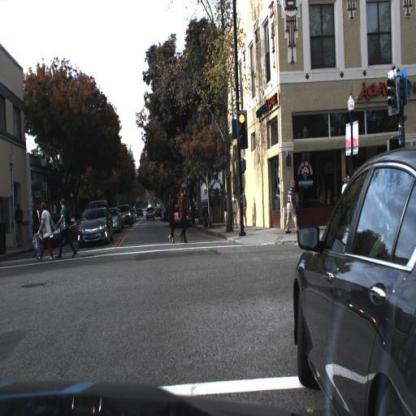car: (294, 148, 416, 416), (79, 205, 112, 254), (35, 210, 69, 253), (171, 204, 194, 231), (114, 212, 122, 232), (164, 206, 172, 224)
pedestrian: (57, 201, 73, 262), (169, 188, 181, 248), (40, 204, 51, 259), (287, 180, 298, 235), (14, 205, 26, 255), (31, 209, 41, 263), (33, 206, 43, 258), (180, 187, 188, 250), (168, 196, 177, 249), (35, 205, 43, 260), (238, 189, 248, 233), (222, 193, 232, 233), (230, 193, 239, 233), (233, 194, 238, 229)
trafficLight: (237, 110, 249, 149)
